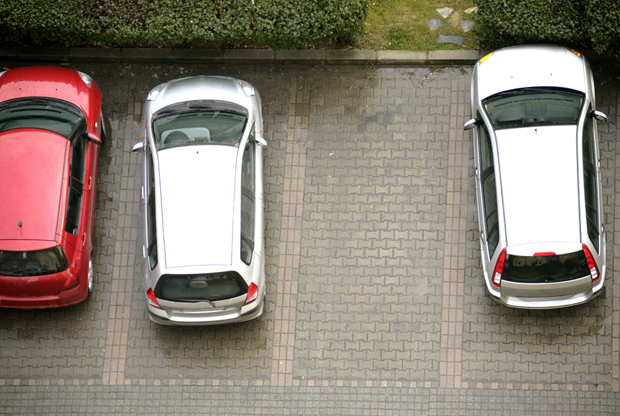car: (463, 38, 620, 315), (134, 71, 270, 334), (1, 85, 103, 324)
